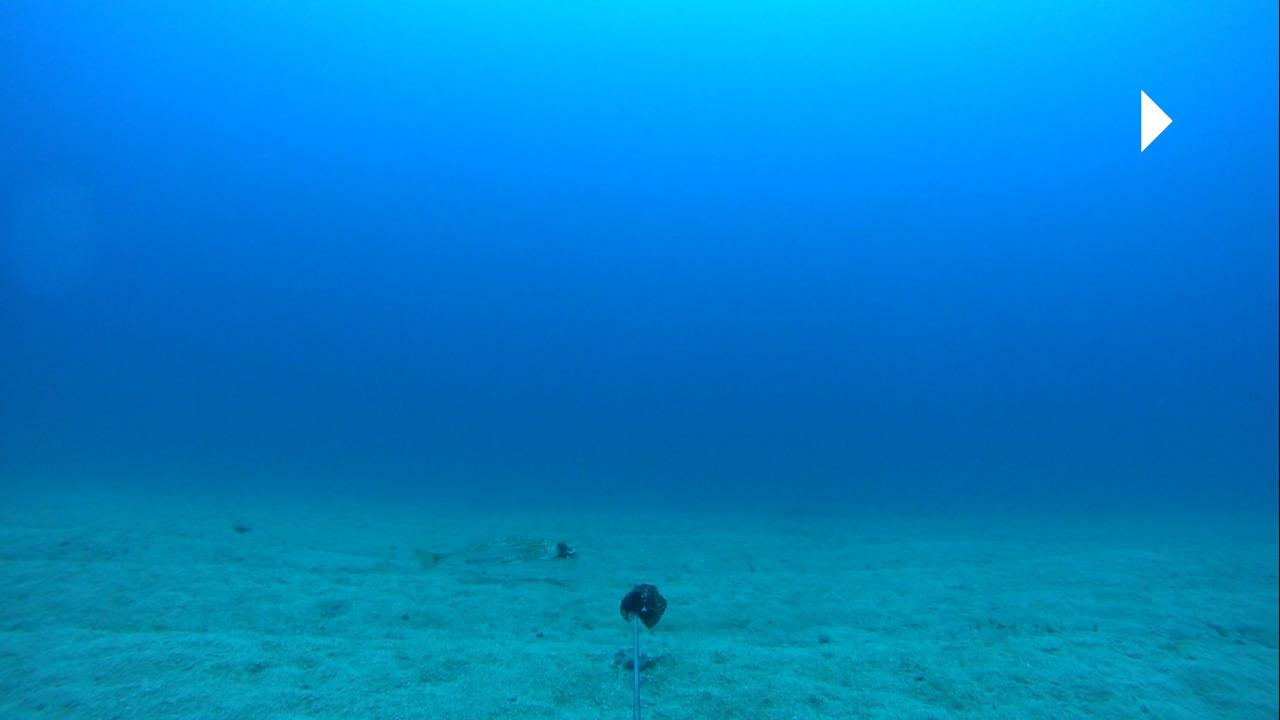dactylopterus: (391, 528, 574, 582)
